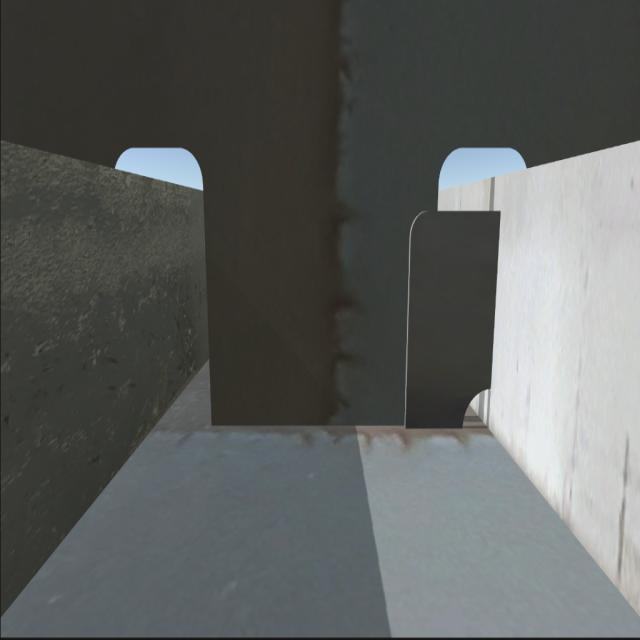fillet_hole: (456, 382, 497, 433)
fillet_yong_jeop_jang: (212, 416, 462, 438)
longi_yong_jeop_jang: (479, 210, 501, 388)
plate_CP05: (407, 201, 494, 435)
